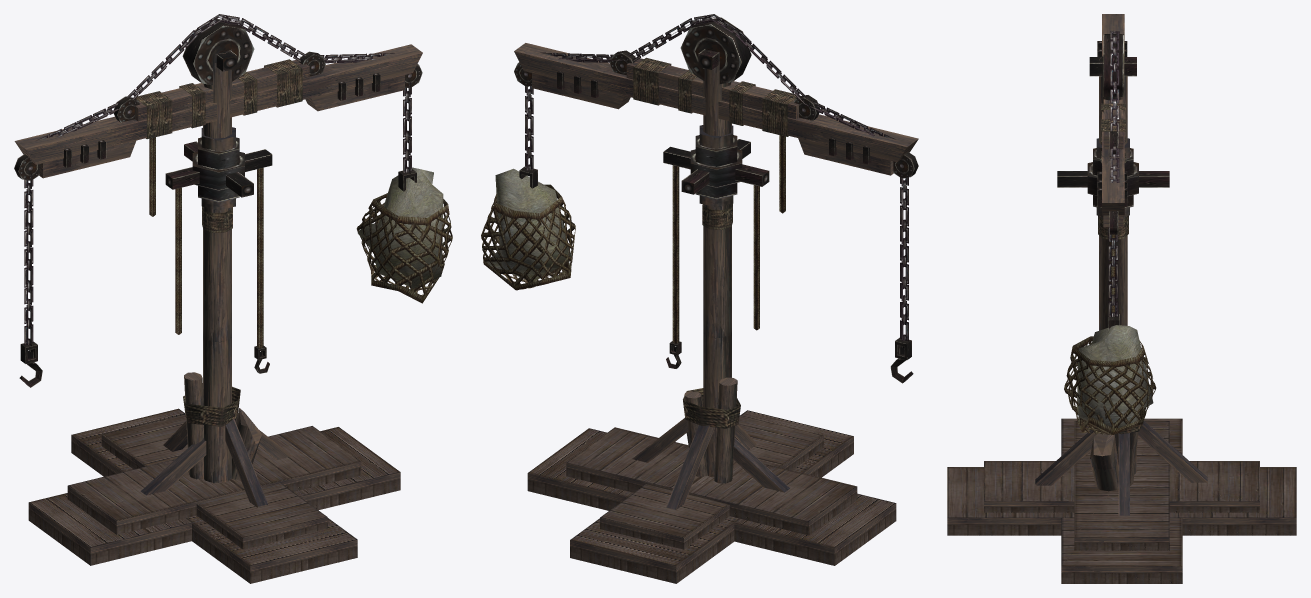
Rendered from diaochejia_jx_63.FBX.
3 views of the same model, side by side, from view 1: azimuth 30°, elevation 25°; view 2: azimuth 150°, elevation 25°; view 3: azimuth 270°, elevation 25° (orthographic). The views are drawn at different scales.
Visible parts, largest first — view 1: diaochejia_jx_63_ncl1_2, diaochejia_jx_63_shitou; view 2: diaochejia_jx_63_ncl1_2, diaochejia_jx_63_shitou; view 3: diaochejia_jx_63_ncl1_2, diaochejia_jx_63_shitou.
Boxes of the visible parts, <box> form: diaochejia_jx_63_ncl1_2: <box>14,14,422,583</box>; diaochejia_jx_63_shitou: <box>356,167,452,303</box>; diaochejia_jx_63_ncl1_2: <box>514,14,918,583</box>; diaochejia_jx_63_shitou: <box>481,166,575,290</box>; diaochejia_jx_63_ncl1_2: <box>947,14,1296,583</box>; diaochejia_jx_63_shitou: <box>1064,314,1156,434</box>.
Size of what is drawn, in the model's own units: 929 by 1030 by 677.
